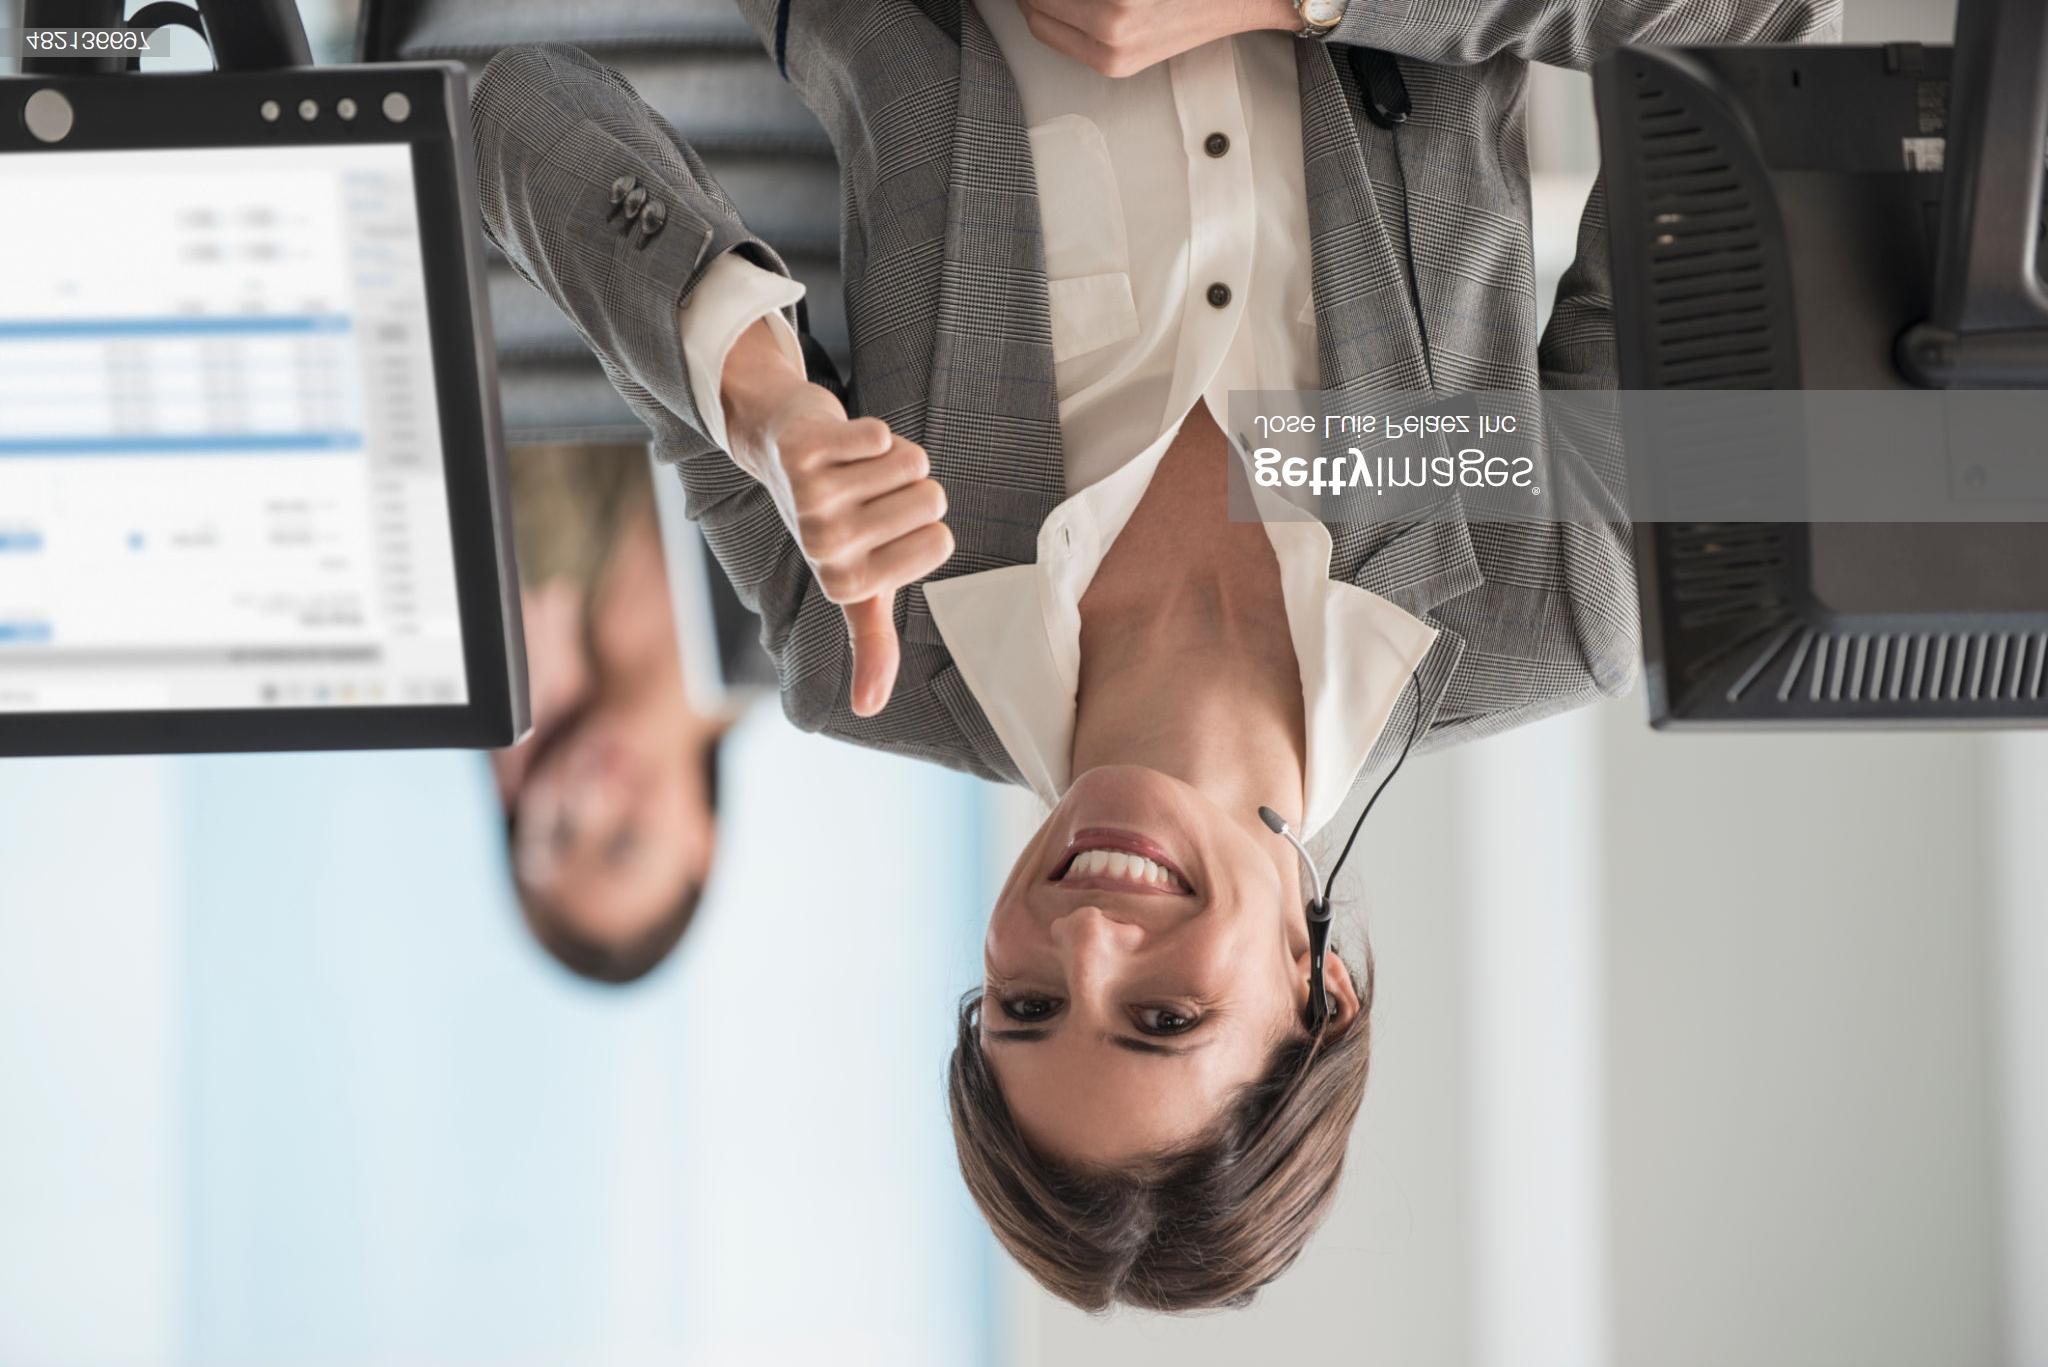thumbsdown: (773, 413, 958, 720)
